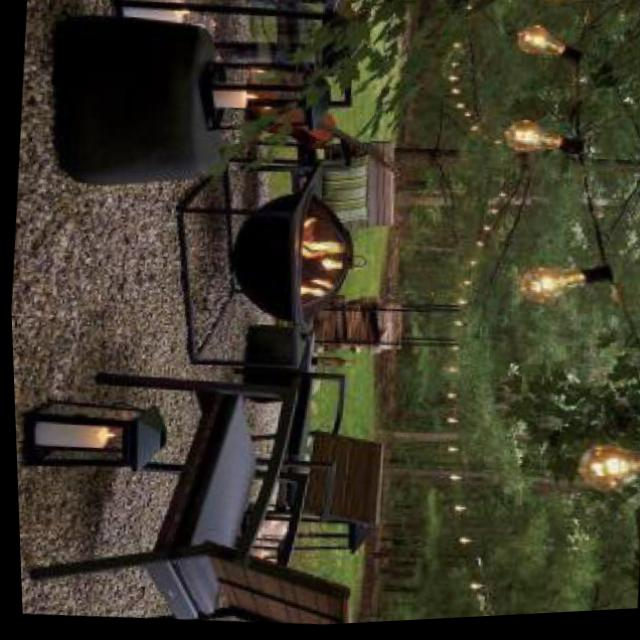Fire: (284, 216, 355, 314)
